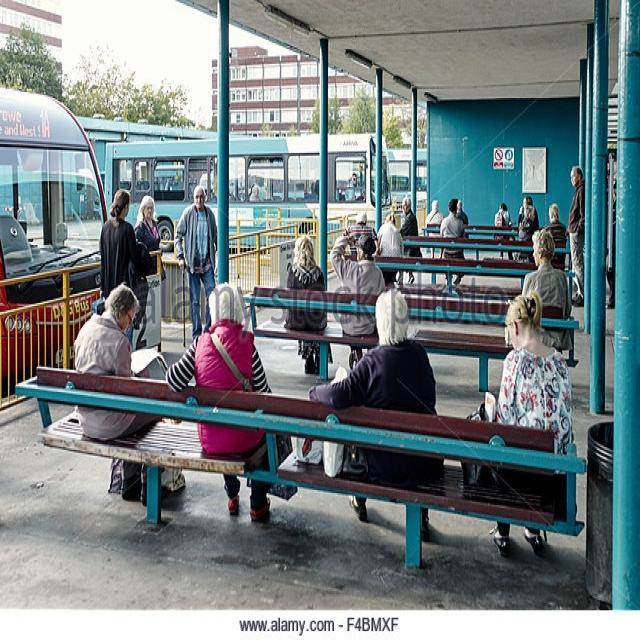body: (307, 288, 437, 544), (164, 281, 274, 524), (71, 279, 167, 509), (492, 288, 572, 557), (127, 160, 387, 210), (328, 226, 387, 353), (173, 183, 219, 343), (520, 224, 575, 352), (284, 233, 328, 377), (134, 193, 169, 328), (98, 184, 139, 299), (563, 162, 592, 310), (342, 205, 380, 294), (601, 145, 618, 312), (439, 198, 466, 288), (376, 210, 405, 286), (397, 195, 419, 285), (543, 202, 568, 272), (493, 200, 515, 262), (517, 193, 540, 241), (424, 198, 444, 228), (455, 199, 469, 224)
